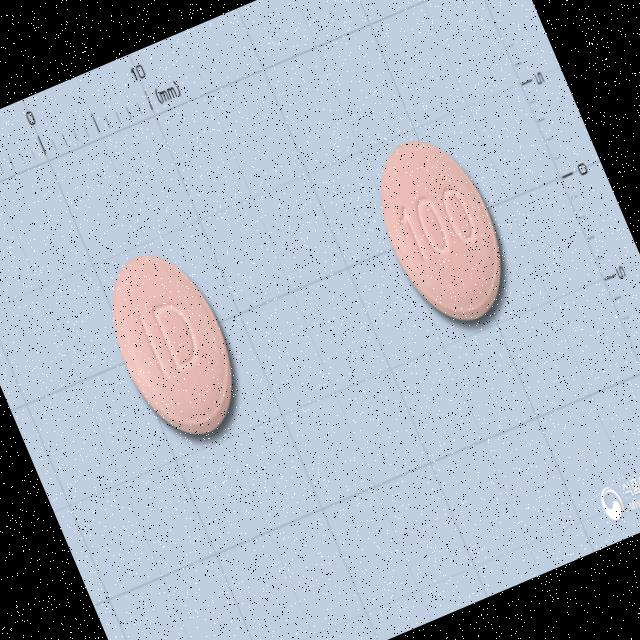Flomox: (88, 235, 258, 452), (357, 121, 526, 338)
